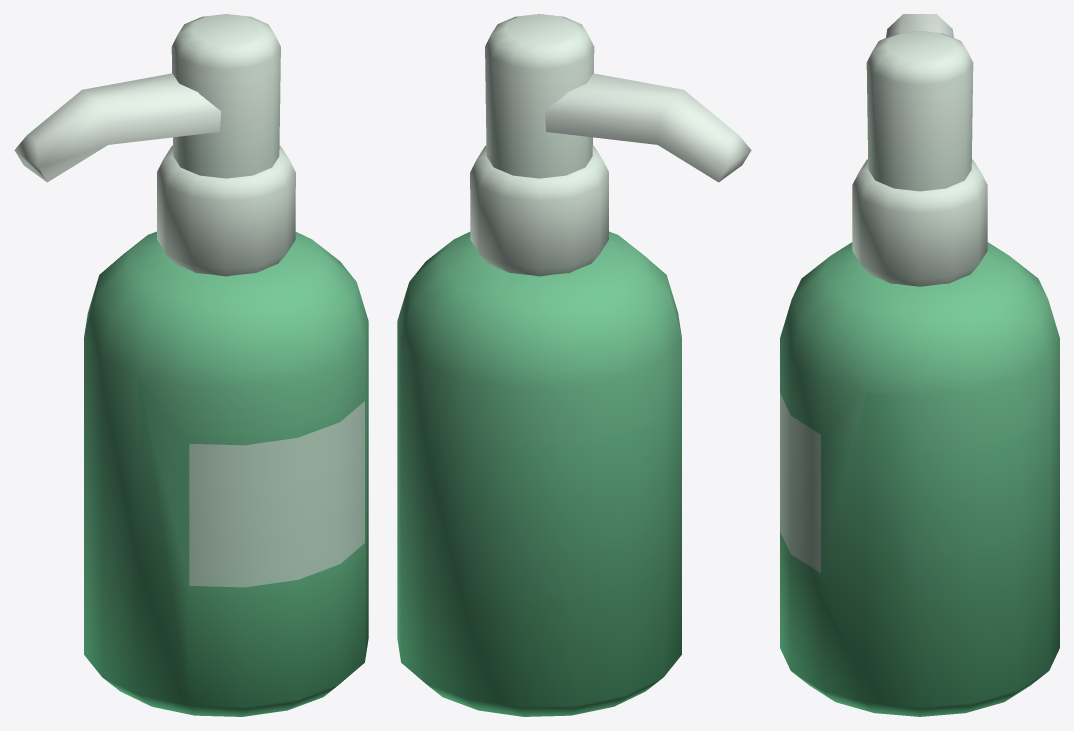
The model's file is Cream_02.glb.
3 renders of one model, left to right at view 1: azimuth 30°, elevation 25°; view 2: azimuth 150°, elevation 25°; view 3: azimuth 270°, elevation 25°, orthographic. The views are drawn at different scales.
Visible parts, largest first — view 1: Cream_02; view 2: Cream_02; view 3: Cream_02.
Part boxes in pixels (box(x1,y1,x2,y2)): Cream_02: box(14, 14, 368, 716); Cream_02: box(397, 14, 751, 716); Cream_02: box(780, 14, 1059, 716).
Size of the model in its own units: 0.1274 by 0.2393 by 0.0977.
Materials: 1 (1 with a texture image).
